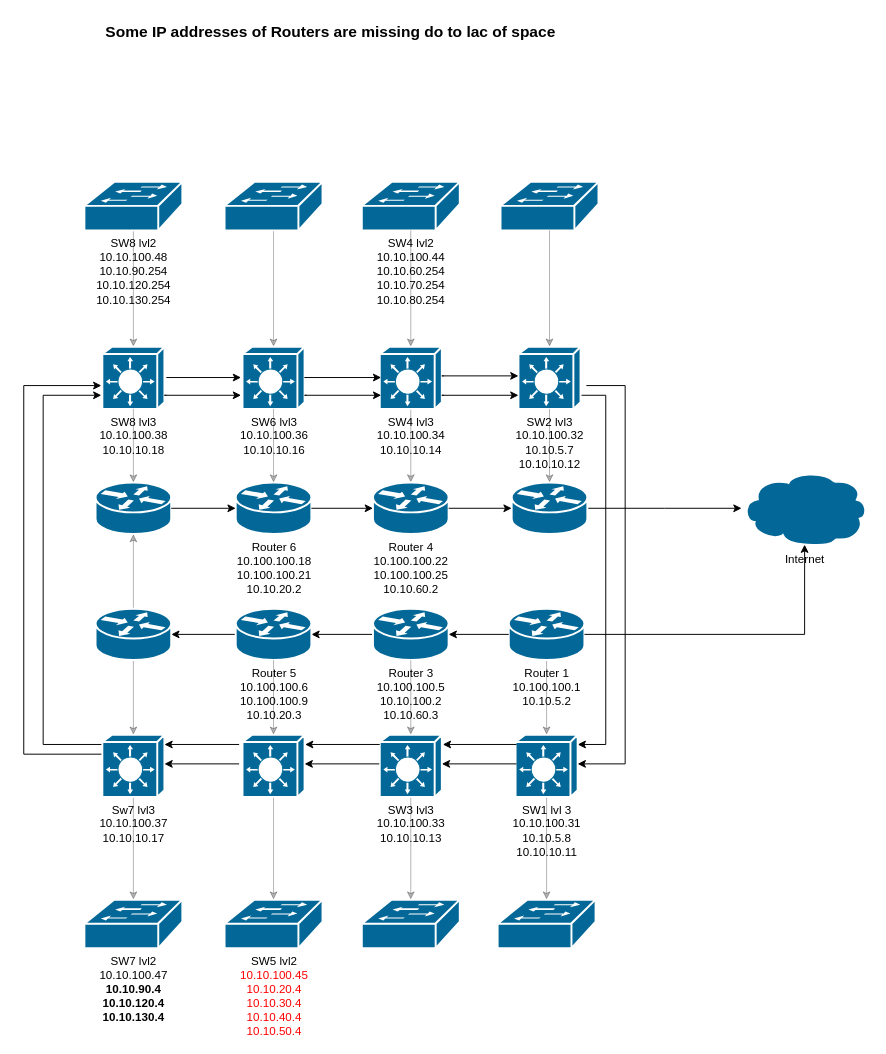
Image size: 886x1054. Some labels were removed from this diagram. Here are the shapes that lost their labels. From the top down, the centre of each, then its label:
At pixel 273 205: "SW6 lvl2 10.10.100.46 10.10.20.254 10.10.30.254 10.10.40.254 10.10.50.254".
At pixel 549 205: "SW2 lvl2 10.10.100.42 10.10.20.251 10.10.40.251 10.10.60.251".
At pixel 133 507: "Router 8 10.100.100.14 10.100.100.17 10.10.90.2".
At pixel 549 507: "Router 2 10.100.100.26 10.10.5.3".
At pixel 133 634: "Router 7 10.100.100.10 10.10.100.13 10.10.90.3".
At pixel 273 765: "SW5 lvl3 10.10.100.35 10.10.10.15".
At pixel 410 923: "SW3 lvl2 10.10.100.43 10.10.60.4 10.10.70.4 10.10.80.4".
At pixel 546 923: "SW1 lvl2 10.10.100.41 10.10.30.251 10.10.50.251 10.10.70.251".
